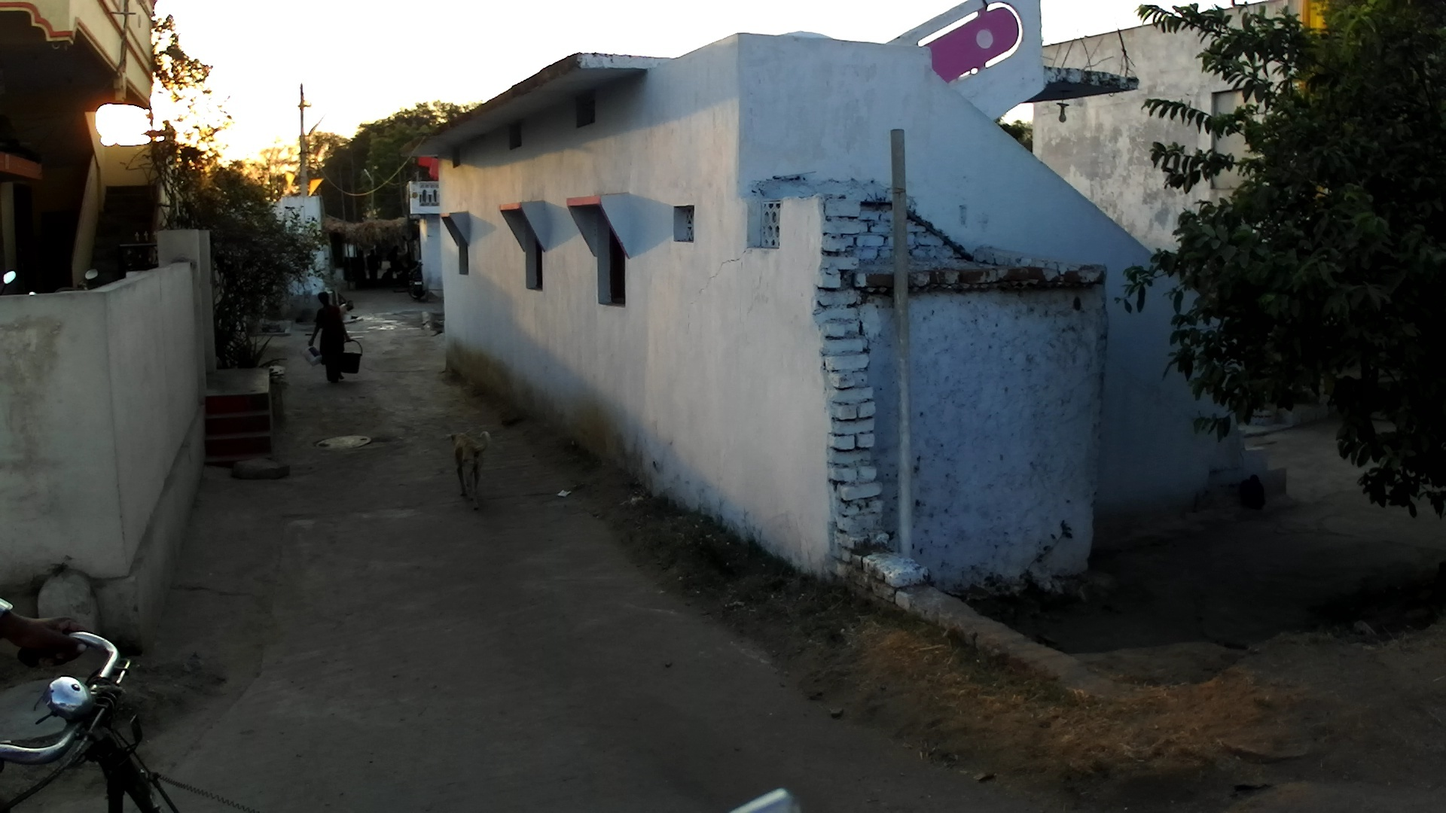animal: (444, 429, 493, 513)
bicycle: (1, 619, 261, 813)
motorcycle: (53, 269, 99, 294), (404, 260, 430, 303), (1, 269, 17, 294)
person: (303, 291, 363, 387), (366, 248, 383, 286), (331, 290, 356, 313)
rider: (1, 597, 92, 662)
